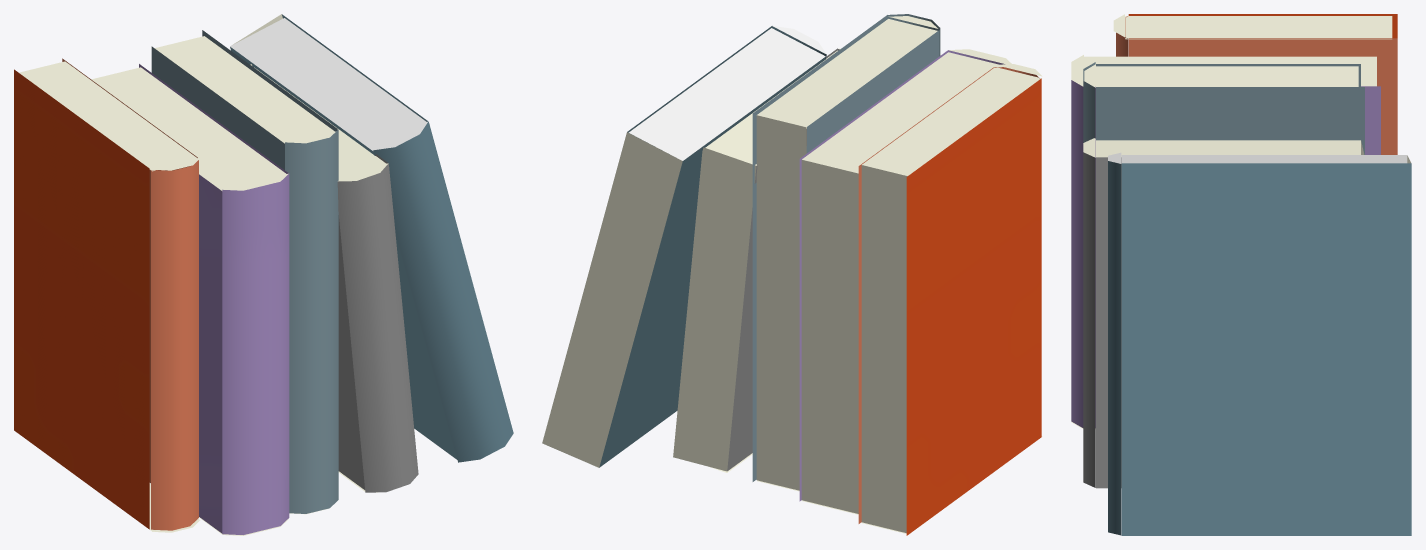
The model's file is prop_079.glb.
The picture shows the model from 3 angles, left to right: view 1: azimuth 30°, elevation 25°; view 2: azimuth 150°, elevation 25°; view 3: azimuth 270°, elevation 25°; orthographic projection.
Parts seen in each view (by area): view 1: prop_079; view 2: prop_079; view 3: prop_079.
Part boxes in pixels (x1,y1,x2,y2): prop_079: (14, 14, 513, 535); prop_079: (542, 14, 1042, 535); prop_079: (1071, 14, 1411, 535).
Size of the model in its own units: 0.2154 by 0.2145 by 0.1775.
Materials: 1 (1 with a texture image).
